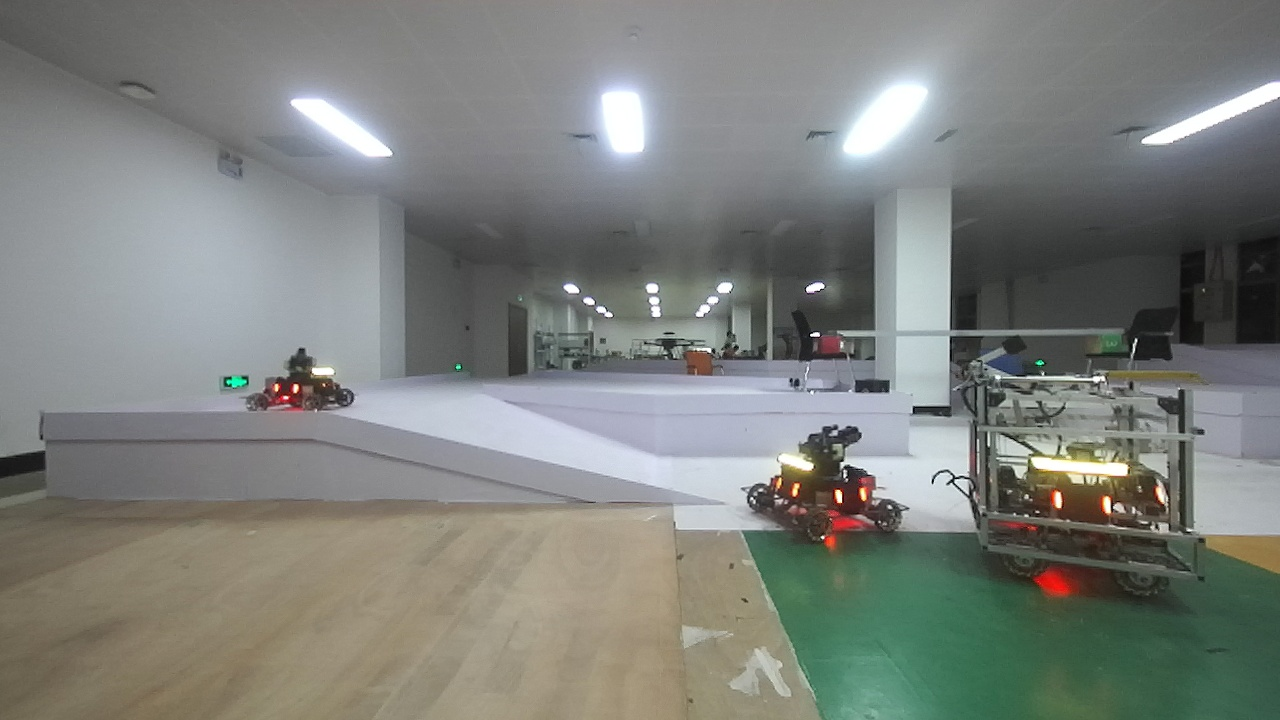car: (956, 359, 1218, 614), (743, 410, 912, 559), (243, 343, 376, 430)
